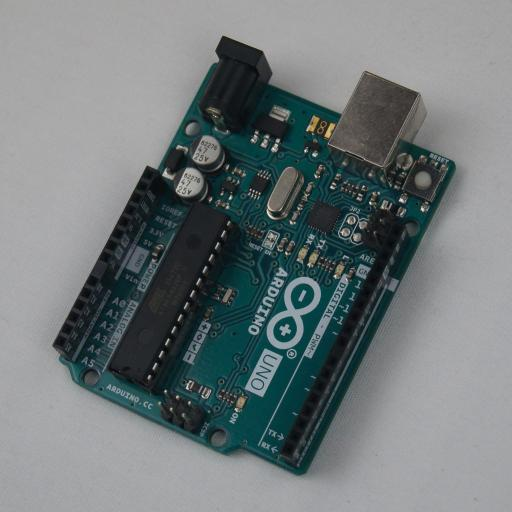Arduino Uno -Green-: (52, 36, 456, 476)
